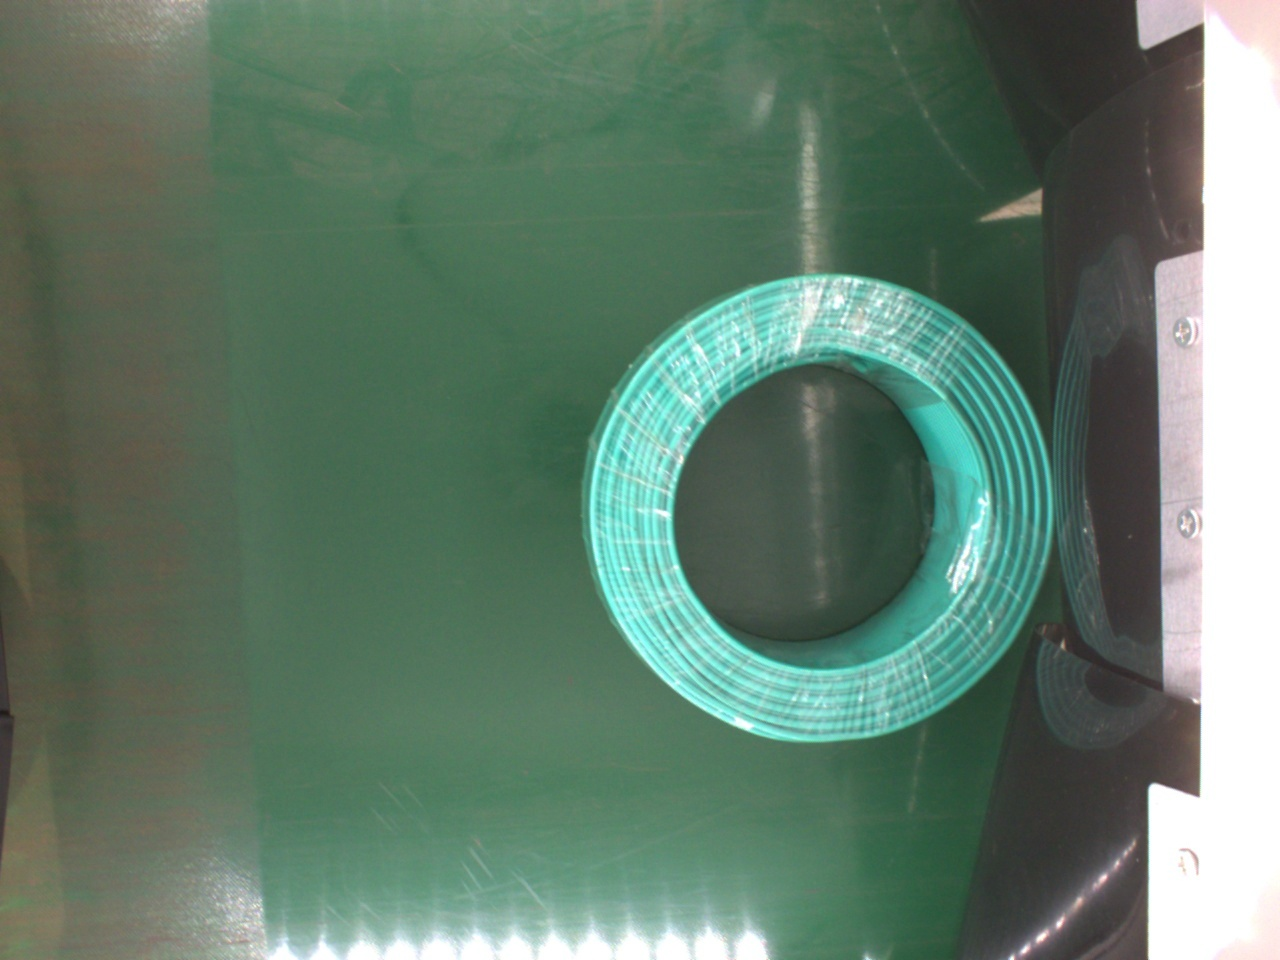green: (582, 272, 1055, 753)
